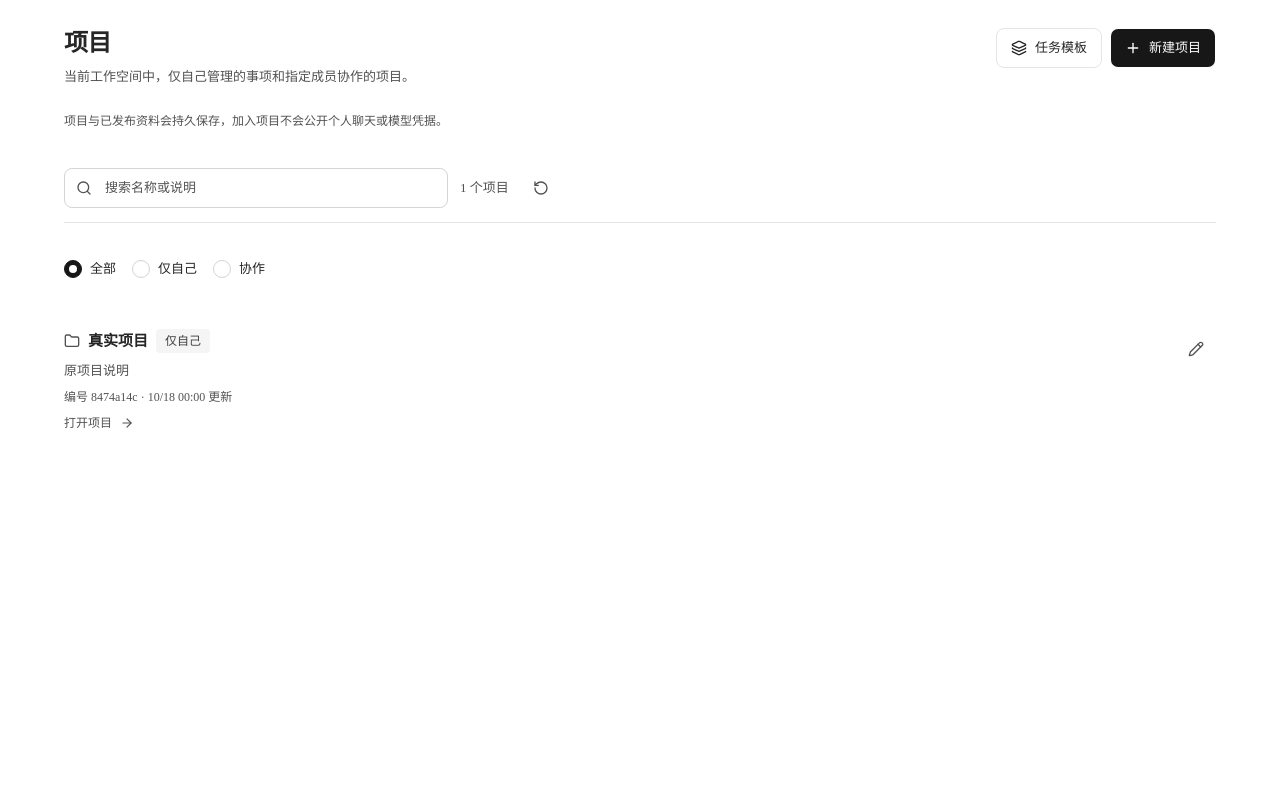
Test: shadcn project and template workflows › retains project edit fields after failure and restores the editor opener when cancelled
This screenshot has width=1280, height=800.
Click the button named "编辑项目：真实项目" at (1196, 349), box left=1176, top=329, right=1216, bottom=369
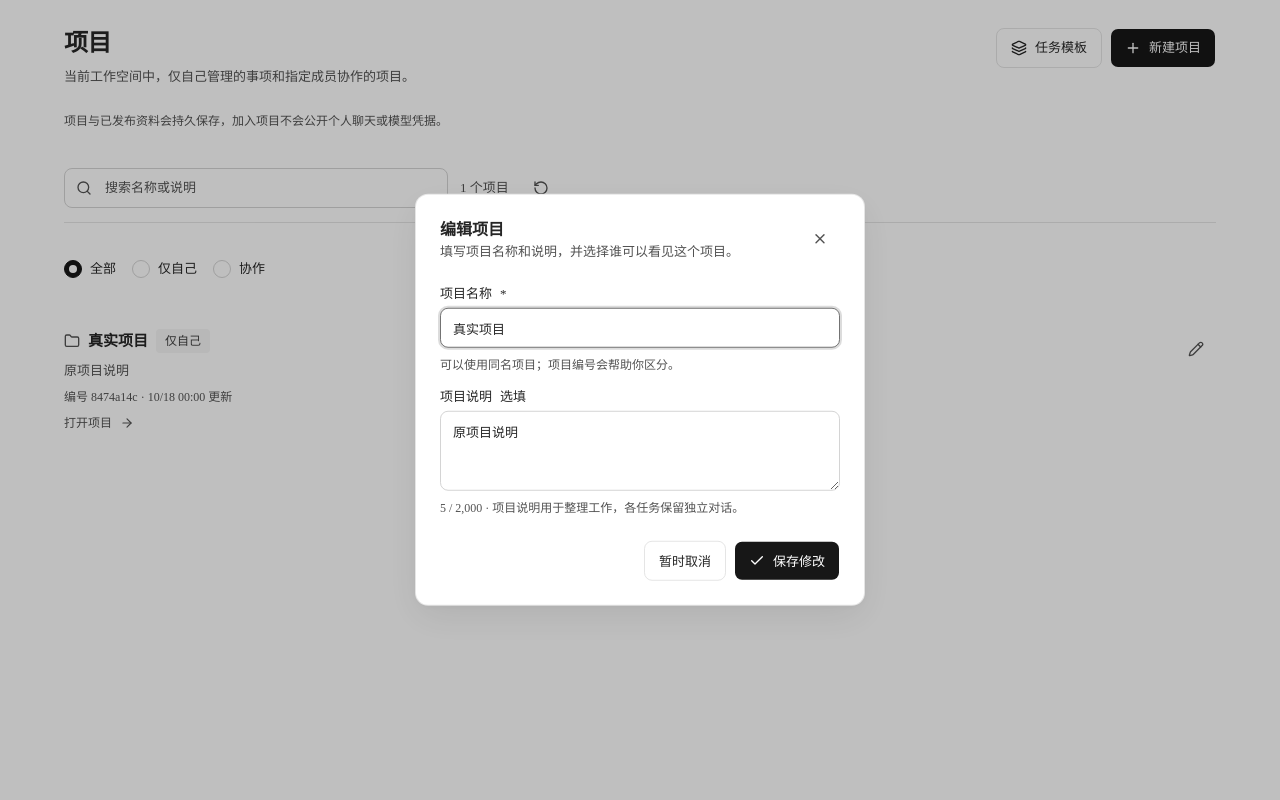
Replace the text in the field labelled "项目名称 *" with "修改后的名称" at (640, 328), box left=440, top=308, right=840, bottom=348
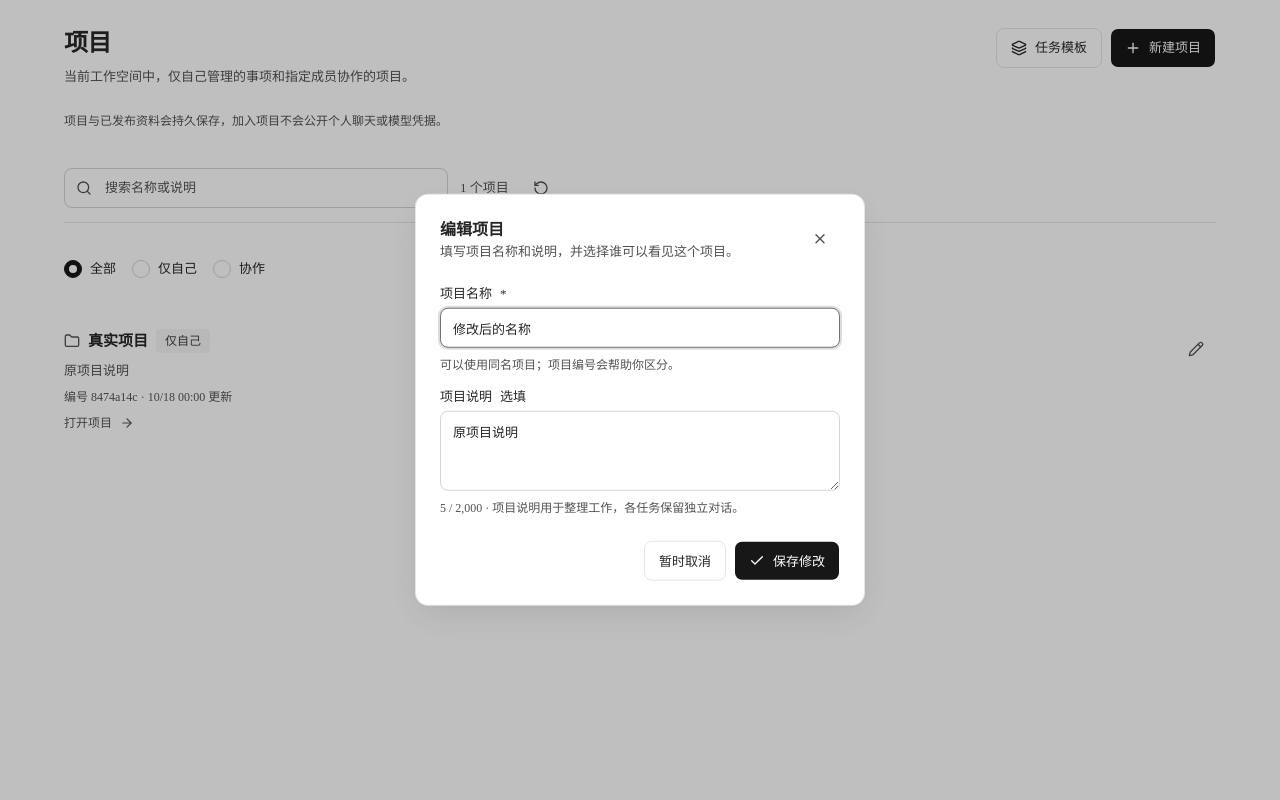
Click the button "保存修改" at (787, 561), box left=734, top=541, right=840, bottom=581
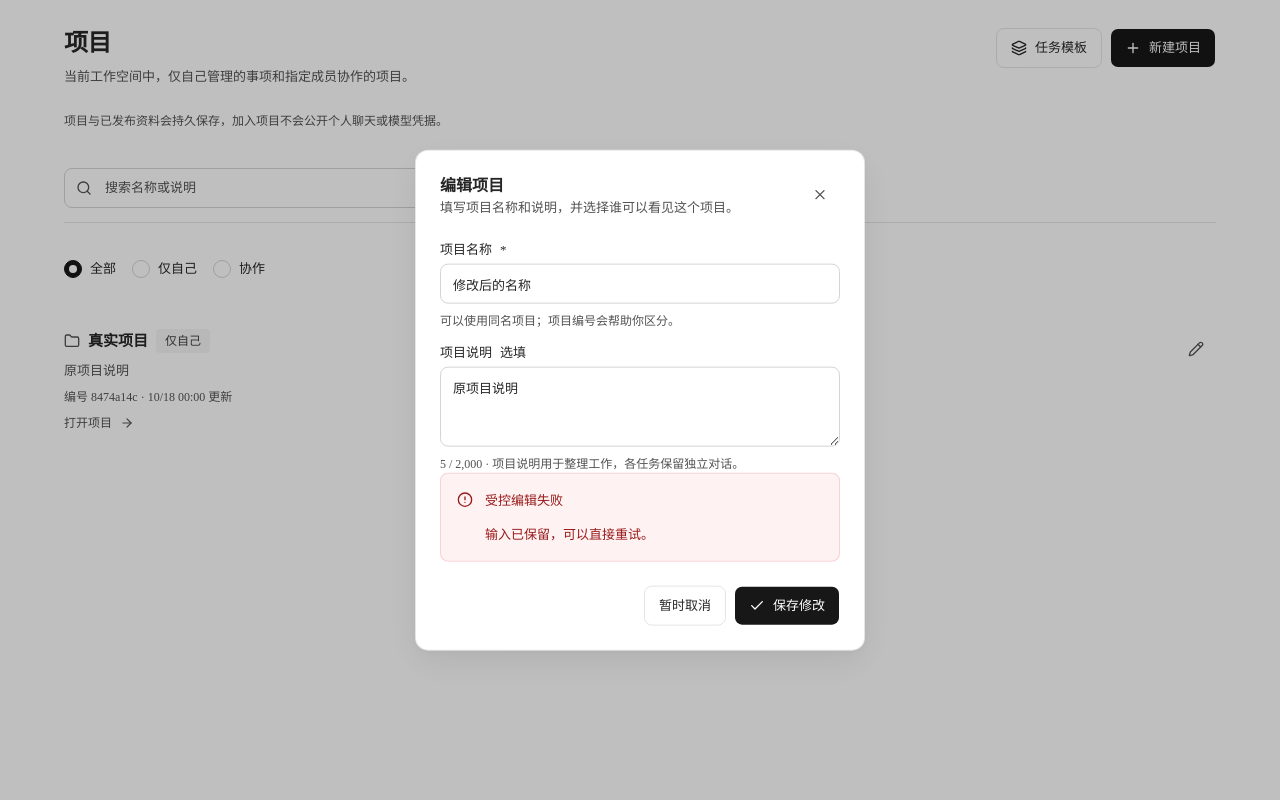
expect the text "受控编辑失败" is shown: met, box left=485, top=493, right=563, bottom=508
Click the button "暂时取消" at (685, 605), box left=644, top=585, right=726, bottom=625
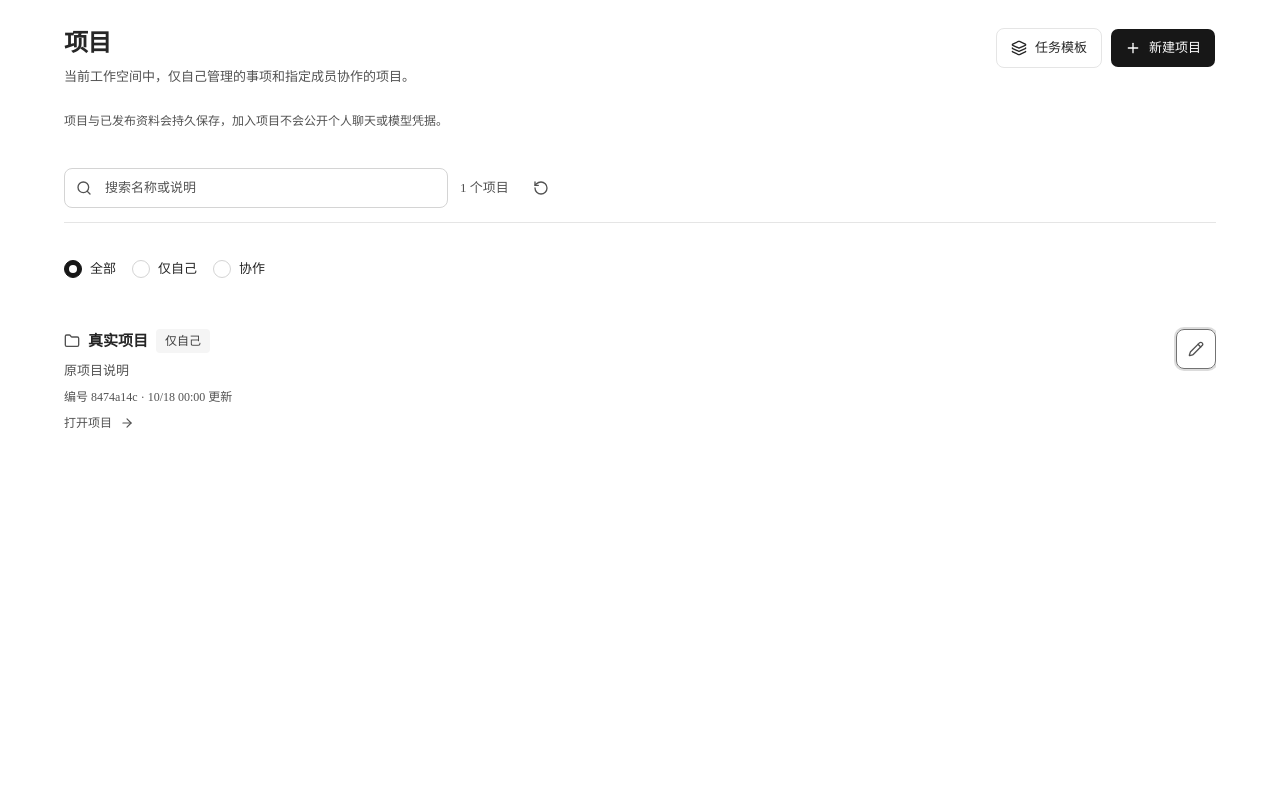
expect the dialog is gone: met
